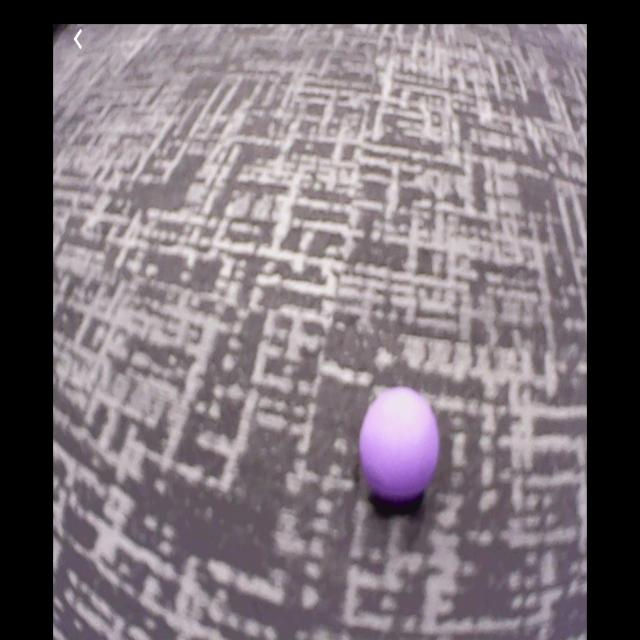ball: (359, 390, 439, 502)
